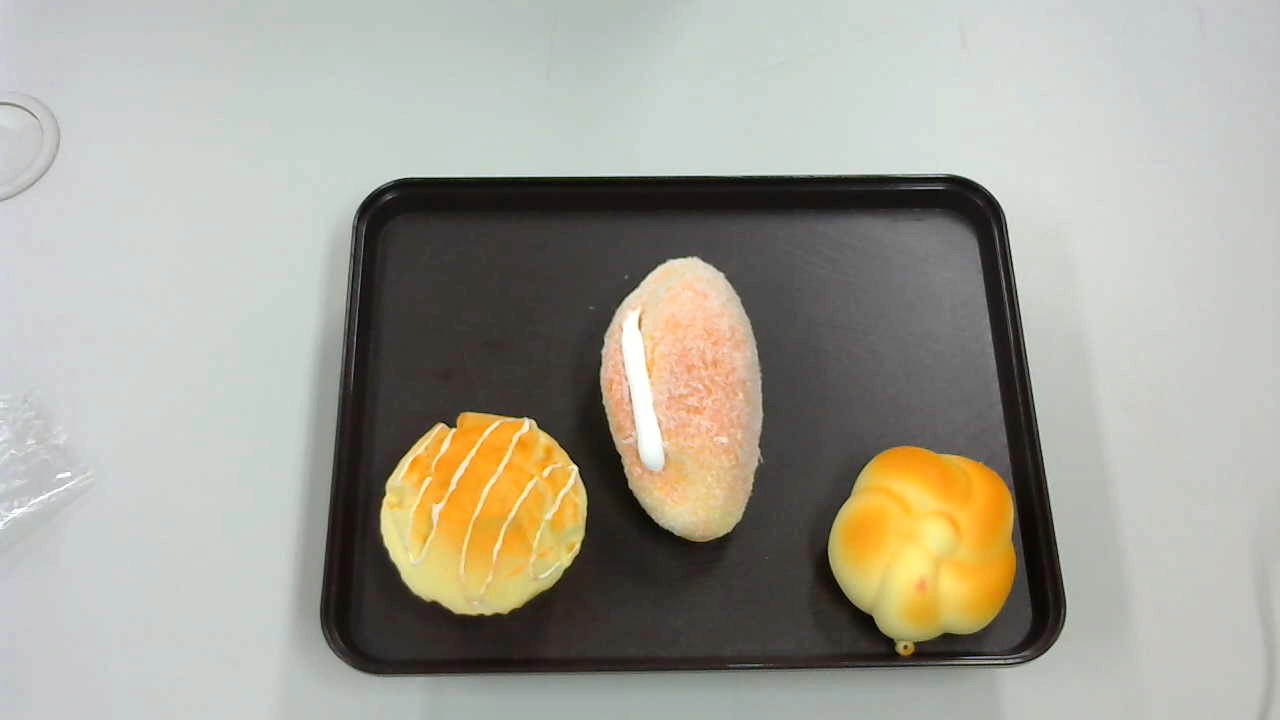coconut: (598, 254, 764, 544)
croissant: (828, 445, 1015, 657)
cupcake: (378, 408, 587, 617)
